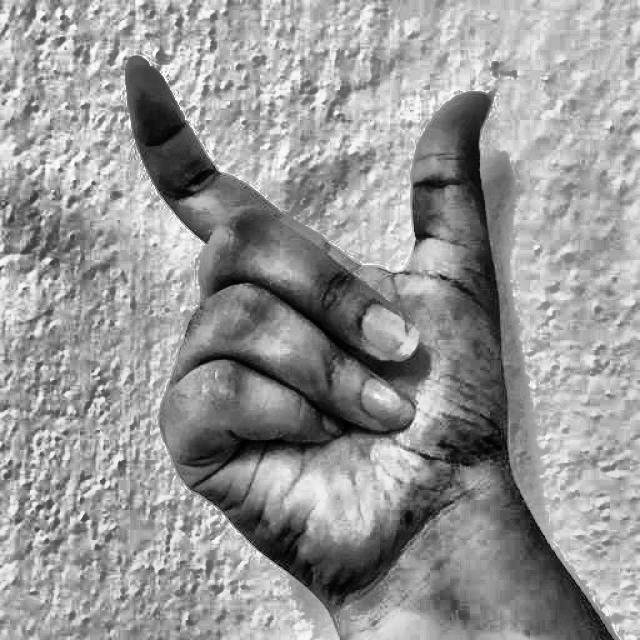ChandraBindu: (108, 29, 550, 612)
